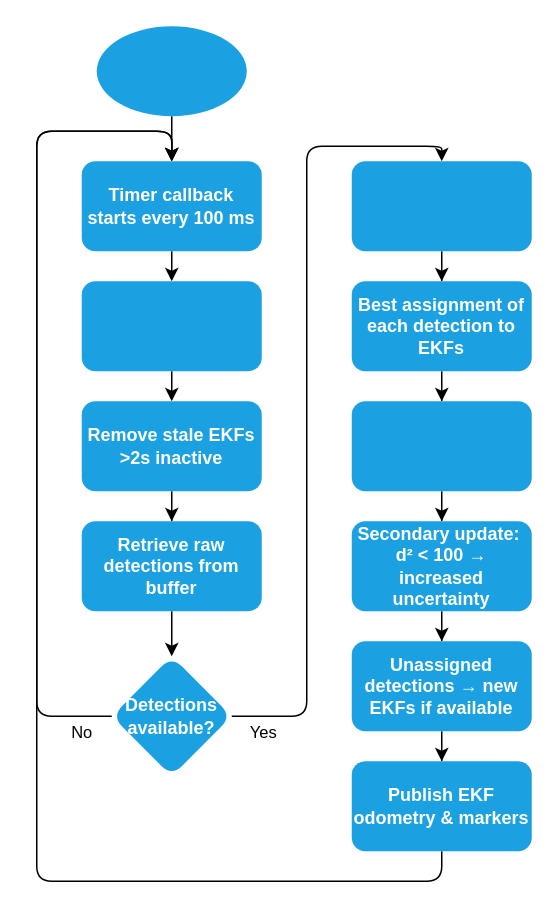
Image size: 558x920. Some labels were removed from this diagram. The centre of each missing label's shape, as x and y in pixels:
"Calculate Mahalanobis distances" belongs at point (441, 205).
"Prediction of all active EKFs" belongs at point (171, 325).
"Primary update: d² < 20 → normal uncertainty" belongs at point (441, 445).
"Start" belongs at point (171, 71).
